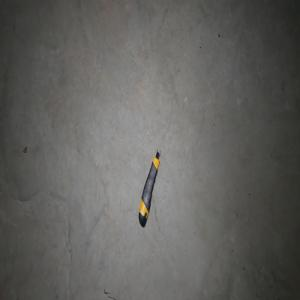Cutter: (137, 149, 160, 228)
